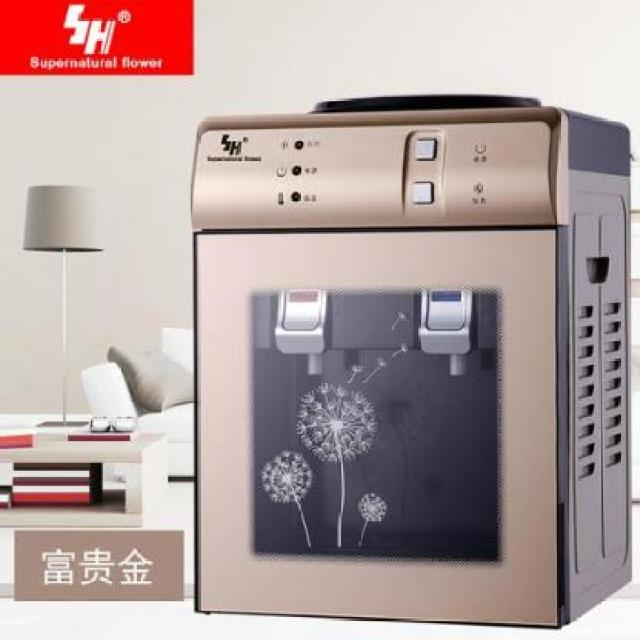cooler: (189, 91, 633, 633)
